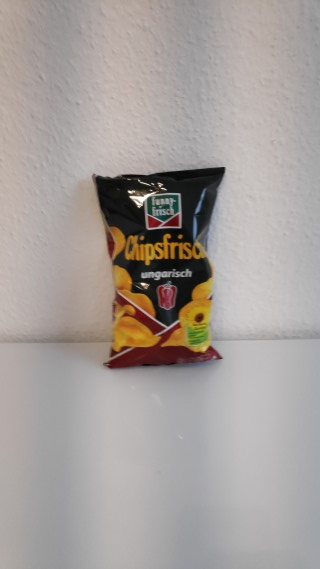chipsfrisch: (89, 165, 227, 369)
